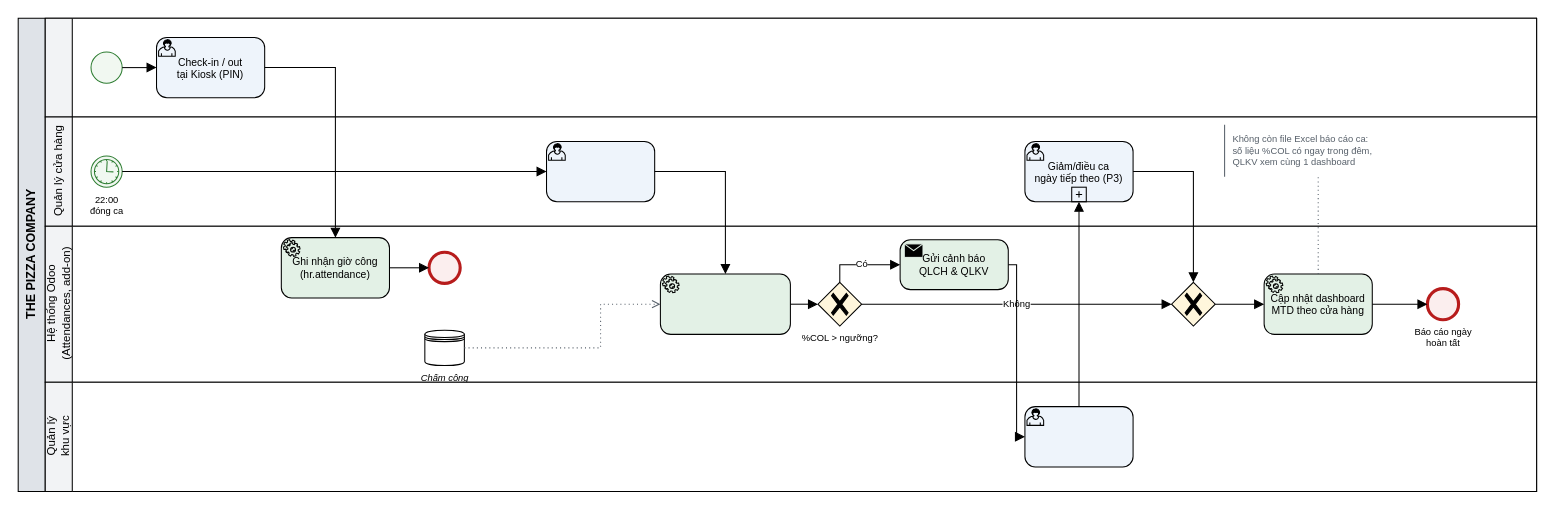
Image size: 1555x510. Some labels were removed from this diagram. The box of each missing label's shape, as (x1, y1, x2, y2) in pixels:
Giờ công đã lưu: (428, 251, 460, 283)
Nhân viên: (44, 17, 1537, 117)
Tính Actual WH, %COL, Productivity ngày: (659, 273, 790, 334)
Vào ca: (90, 51, 122, 83)
Xem nguyên nhân, yêu cầu chỉnh ca: (1024, 406, 1133, 467)
Đóng ca POS, import doanh thu ngày: (545, 140, 655, 202)
